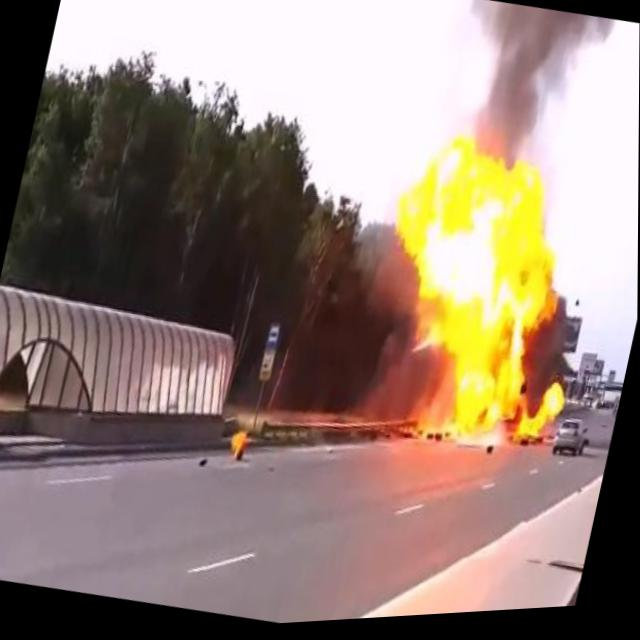fire: (340, 109, 618, 467), (226, 421, 250, 466)
